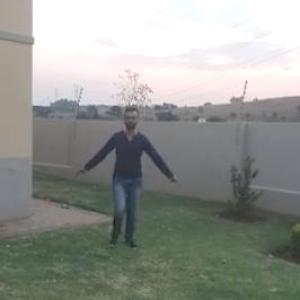land: (76, 105, 185, 245)
